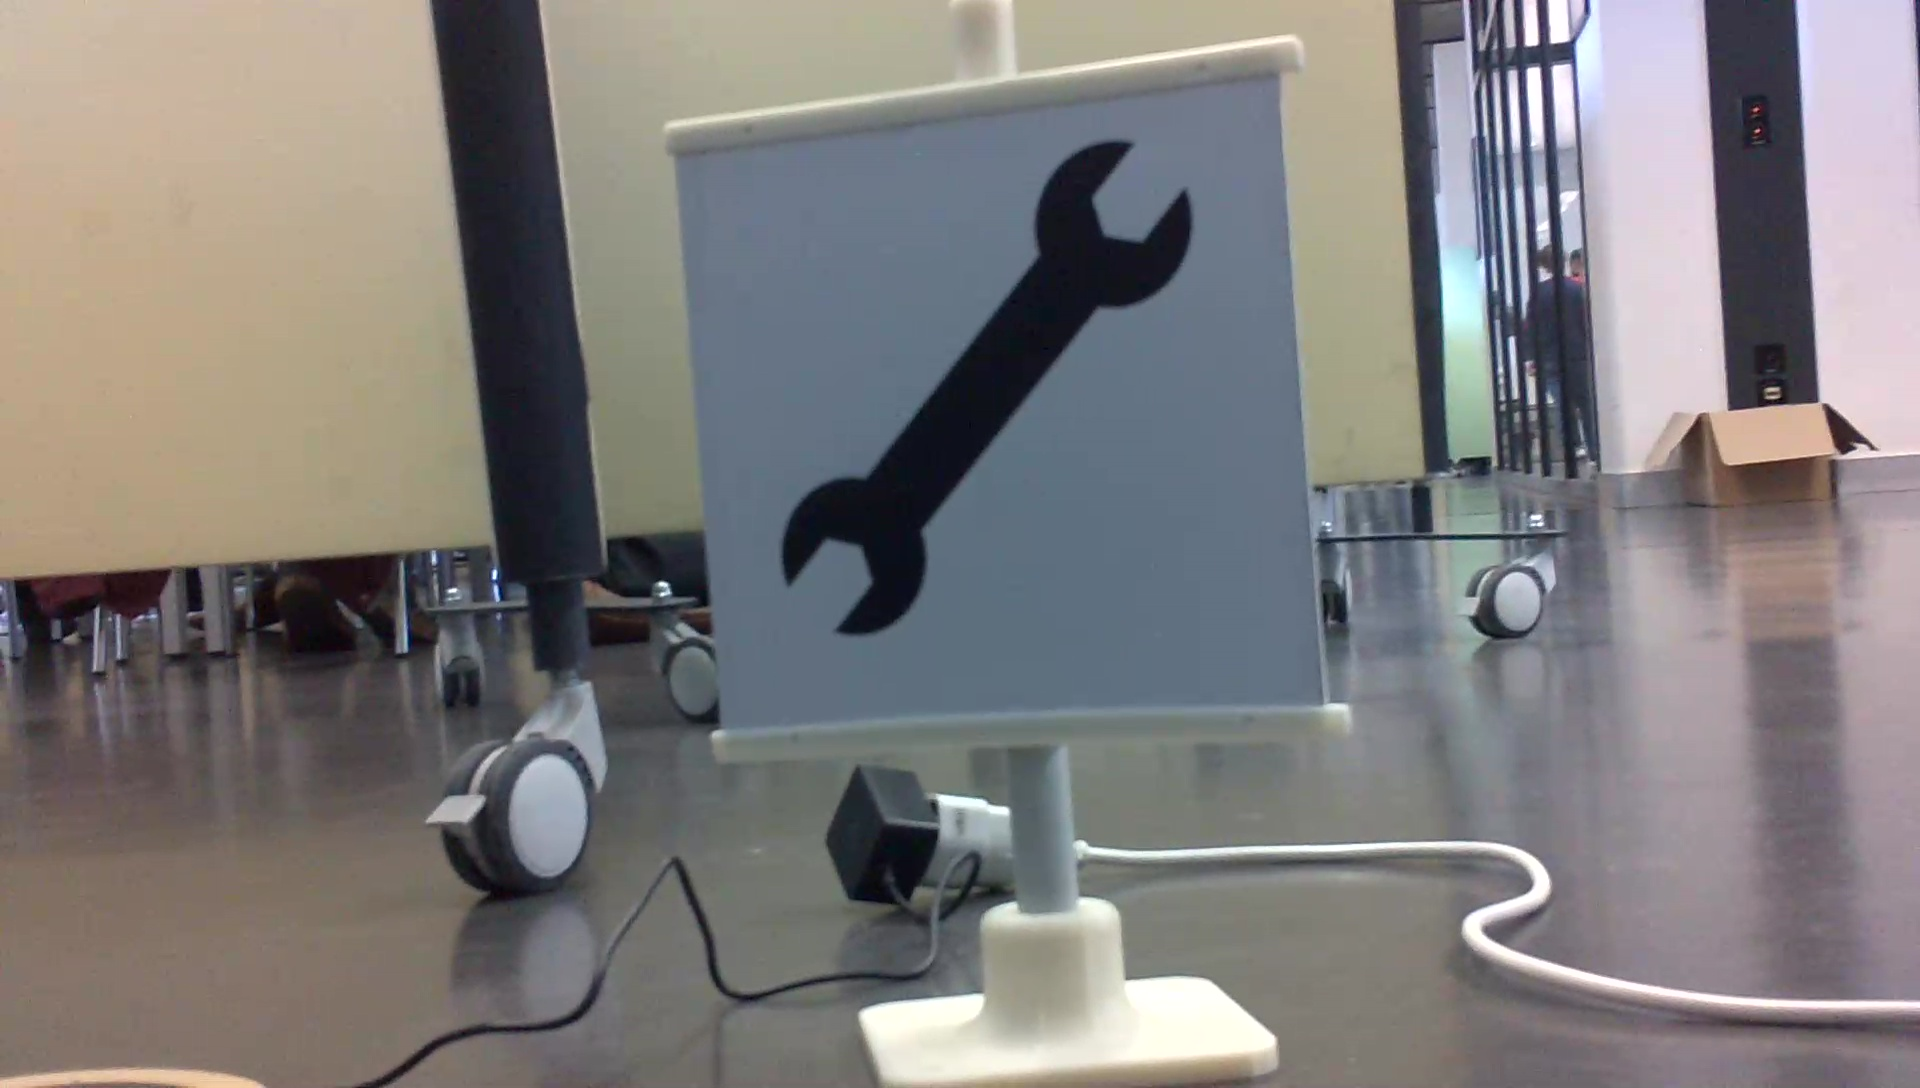wrench: (767, 127, 1205, 648)
